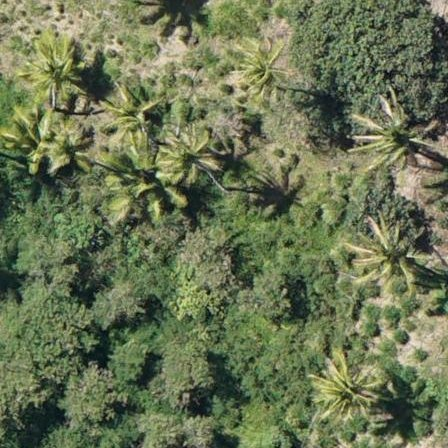palm_tree: (345, 87, 433, 181), (20, 32, 96, 106), (306, 349, 376, 422), (354, 220, 421, 291), (229, 29, 293, 97), (11, 109, 79, 171), (155, 121, 215, 186)
